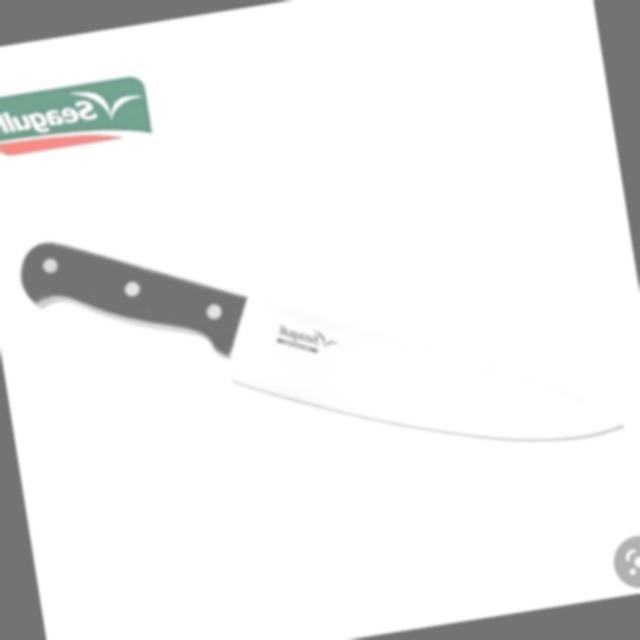knife: (12, 152, 638, 531)
